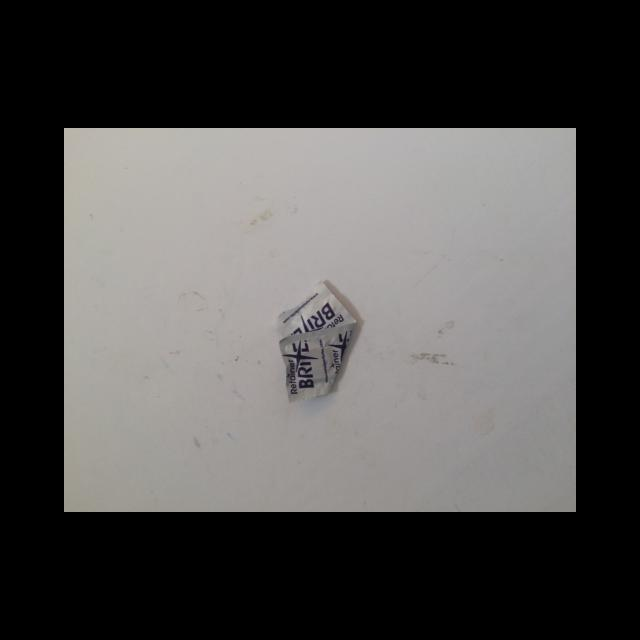plastic: (277, 283, 357, 402)
